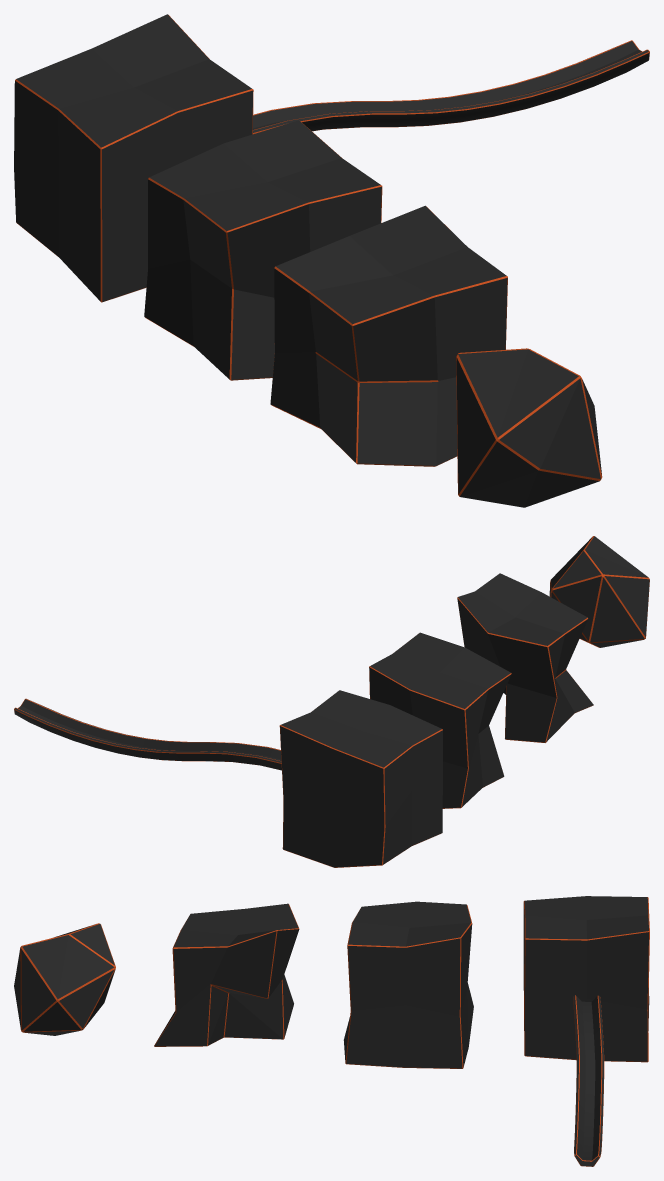
File: Rubble.obj
The picture shows the model from 3 angles, top to bottom: view 1: azimuth 30°, elevation 25°; view 2: azimuth 150°, elevation 25°; view 3: azimuth 270°, elevation 25°; orthographic projection. The views are drawn at different scales.
Visible parts, largest first — view 1: Cube.002, Cube, Cube.001, Cube.003, Cube.004; view 2: Cube, Cube.002, Cube.001, Cube.003, Cube.004; view 3: Cube.001, Cube, Cube.002, Cube.003, Cube.004.
Boxes of the visible parts, left/top/right/bottom form: Cube.002: left=270, top=205, right=507, bottom=466; Cube: left=14, top=14, right=253, bottom=302; Cube.001: left=144, top=120, right=382, bottom=380; Cube.003: left=456, top=348, right=602, bottom=507; Cube.004: left=253, top=40, right=649, bottom=134; Cube: left=279, top=690, right=442, bottom=867; Cube.002: left=457, top=573, right=593, bottom=742; Cube.001: left=369, top=632, right=511, bottom=808; Cube.003: left=549, top=536, right=649, bottom=647; Cube.004: left=14, top=698, right=281, bottom=770; Cube.001: left=343, top=901, right=473, bottom=1068; Cube: left=523, top=896, right=649, bottom=1062; Cube.002: left=154, top=903, right=299, bottom=1046; Cube.003: left=14, top=923, right=115, bottom=1035; Cube.004: left=573, top=995, right=604, bottom=1166.
Bounding box in the file's own units: 7.79 × 2.54 × 10.2.
